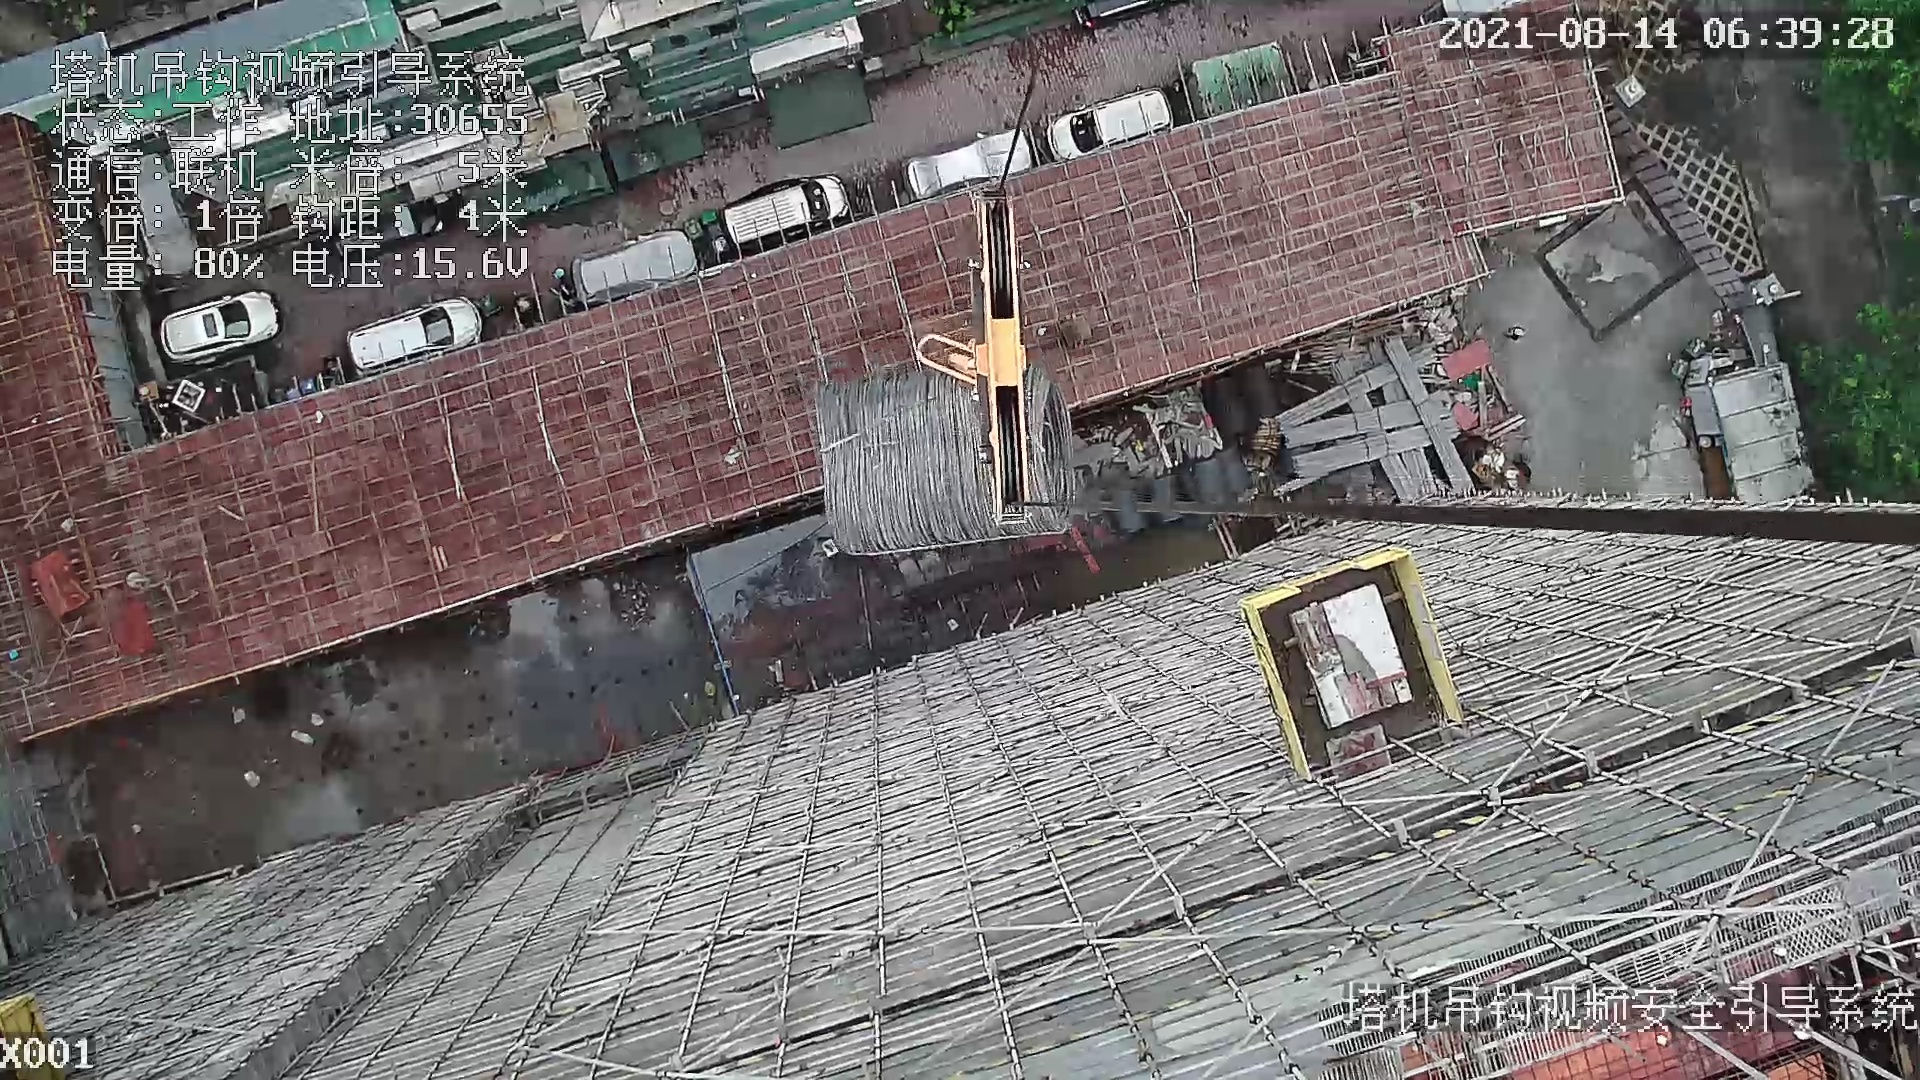hook: (918, 189, 1044, 527)
